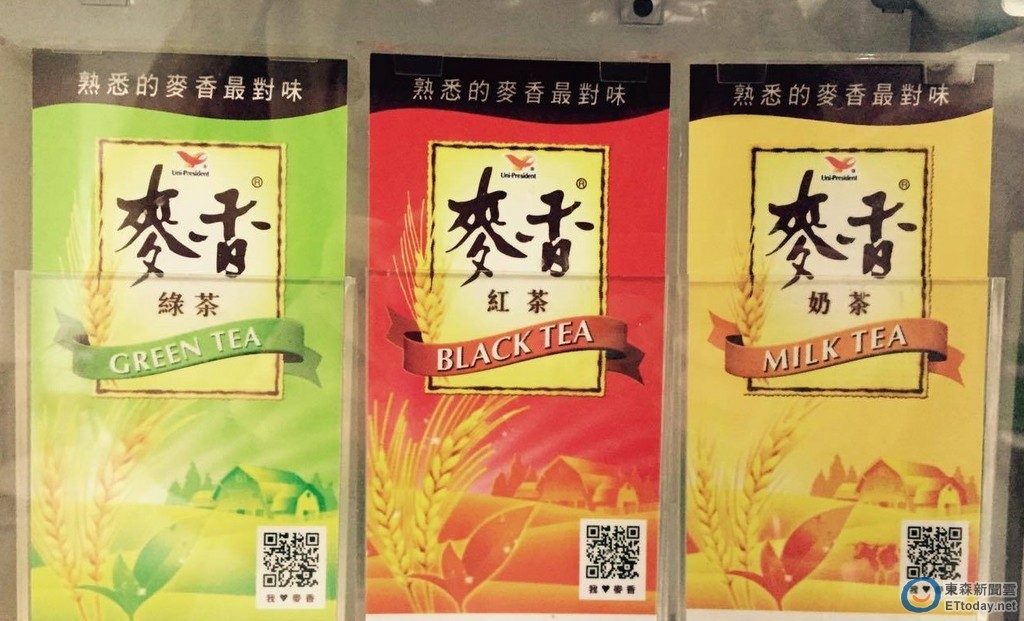鋁箔包: (24, 39, 356, 621), (360, 46, 672, 621), (684, 51, 997, 621)
